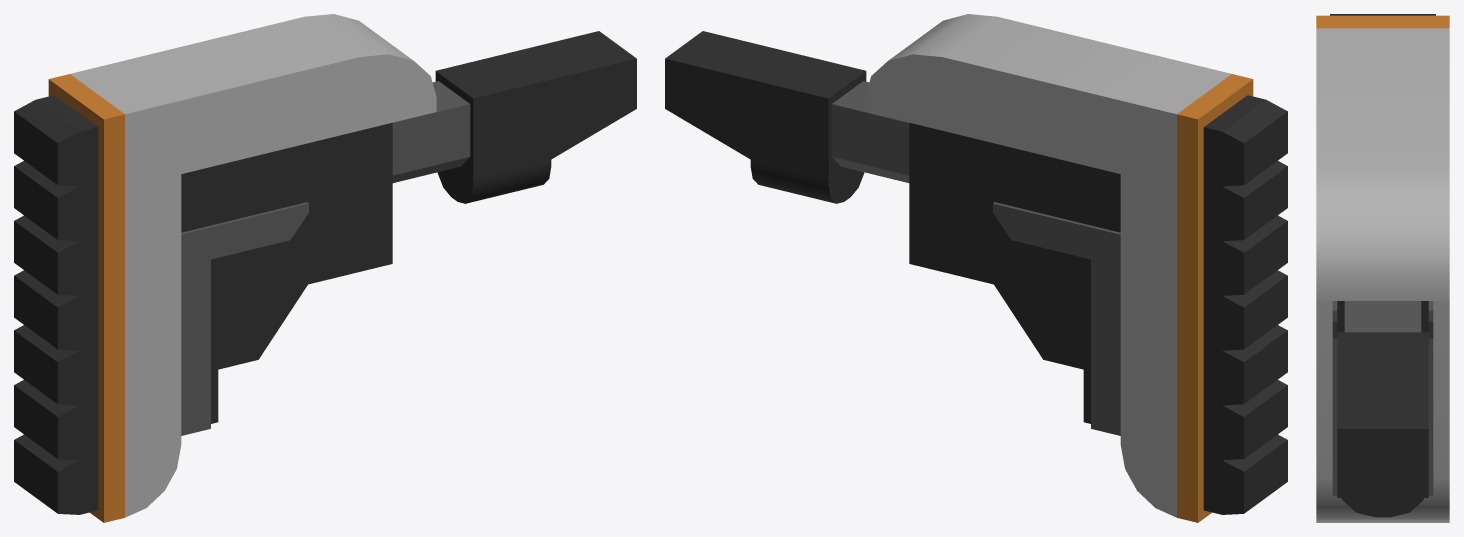
File: Stock_Grenade_1.gltf
3 renders of one model, left to right at view 1: azimuth 30°, elevation 25°; view 2: azimuth 150°, elevation 25°; view 3: azimuth 270°, elevation 25°, orthographic. The views are drawn at different scales.
Visible parts, largest first — view 1: Stock_Grenade_1; view 2: Stock_Grenade_1; view 3: Stock_Grenade_1.
Part boxes in pixels (bbox=[...]): Stock_Grenade_1: bbox=[14, 14, 636, 522]; Stock_Grenade_1: bbox=[665, 14, 1287, 522]; Stock_Grenade_1: bbox=[1316, 14, 1449, 522].
Bounding box in the file's own units: 0.6669 × 0.4418 × 0.1094.
